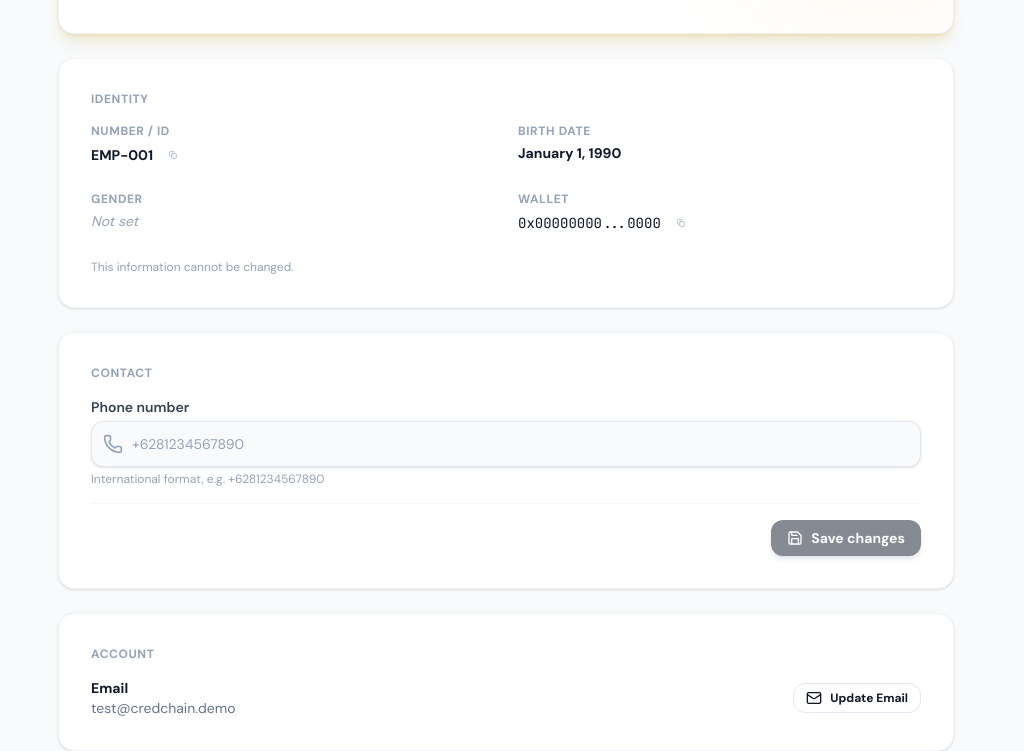
Test case: UserSelfProfile › shows translated phone error (not raw key) on invalid phone
The image size is (1024, 751).
(page scrolled)
Type "08123" into the field at (506, 444), box [91, 421, 921, 467]
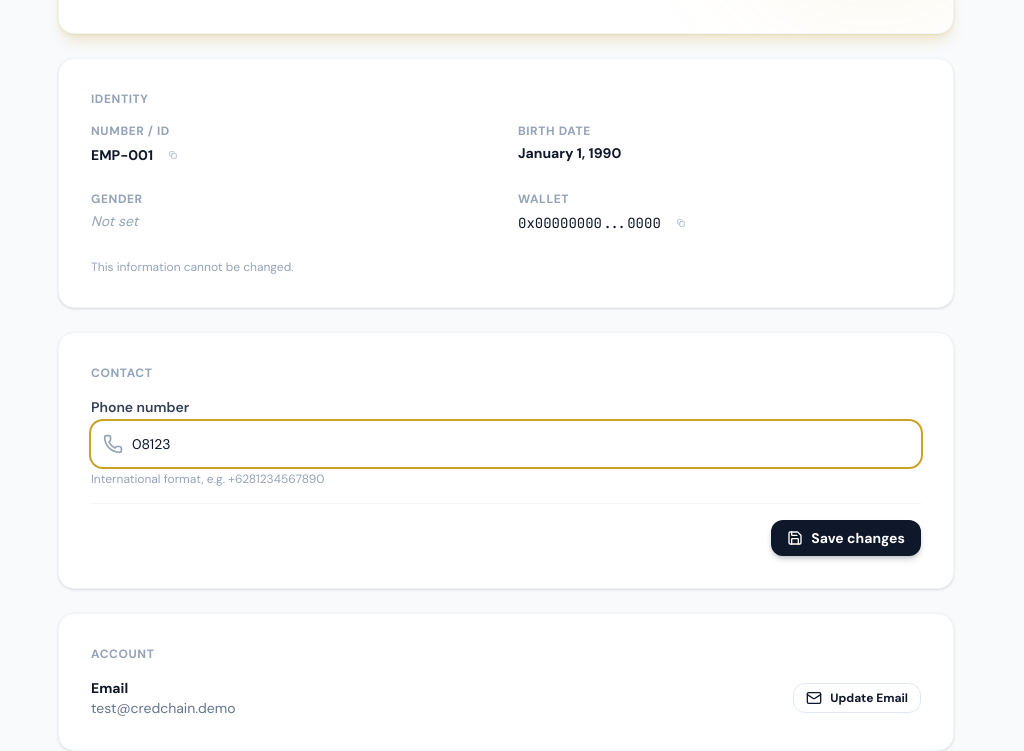
Press Tab
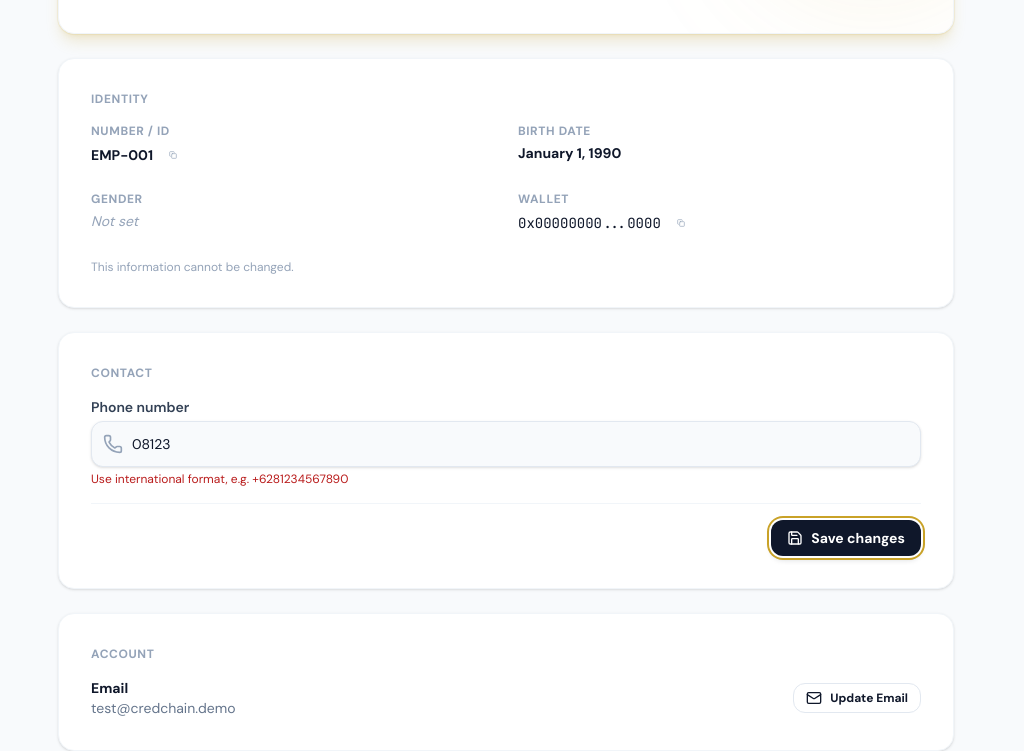
Now the message reads "Use international format, e.g. +6281234567890", box [91, 471, 348, 487]
